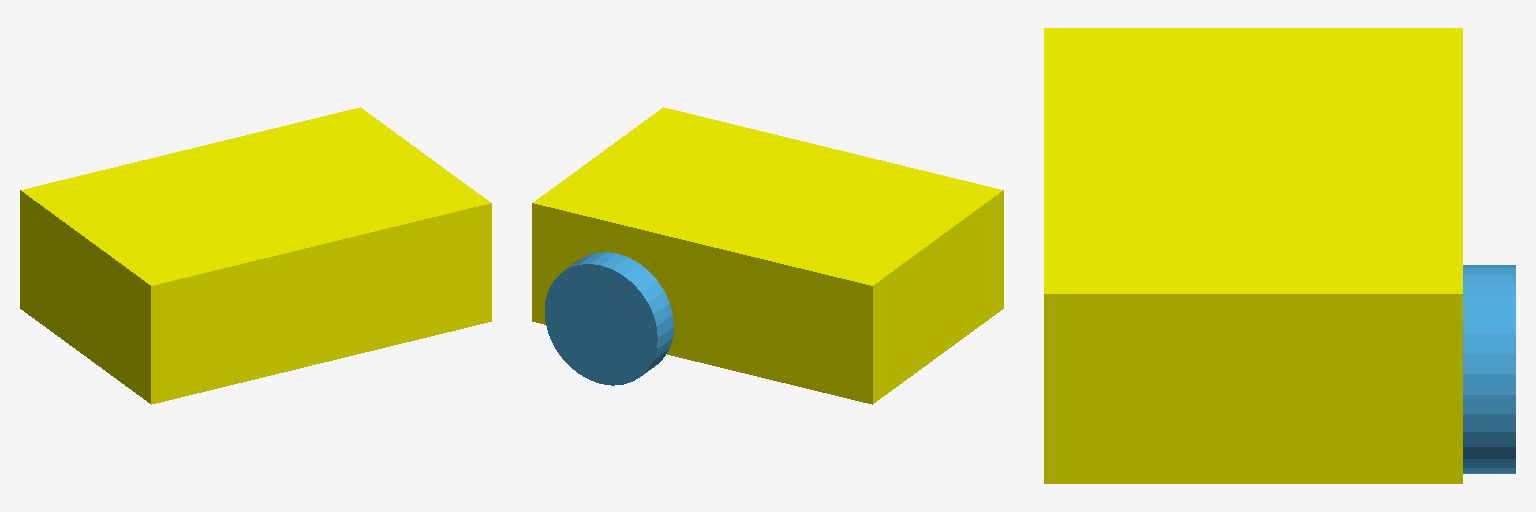
robot.urdf — diferential:
<?xml version="1.0"?>
<robot name="diferential">

<material name="yellow">
    <color rgba="1 1 0 0.5"/>
</material>

    <link name="base_link">
        <visual>
            <geometry>
                <box size="0.6 0.4 0.2"/>
            </geometry>
            <origin xyz="0 0 0.15" rpy="0 0 0"/>
            <material name="yellow" />
        </visual>
    </link>

    <link name="left_wheel">
        <visual>
            <geometry>
                <cylinder radius="0.1" length="0.05" />
            </geometry>
            <origin xyz="0 0 0" rpy="0 0 0"/>
        </visual>
    </link>

    <joint name="base_sleft_wheel" type="continuous">
        <parent link="base_link"/>
        <child link="left_wheel"/>
        <origin xyz="0.15 0.225 0.1" rpy="1.570796 0 0"/>
        <axis xyz="0 0 1"/>
    </joint>

</robot>

--- What the picture shows (computed from the rendered views, not written in the file) ---
The picture shows the robot from 3 angles, left to right: view 1: azimuth 30°, elevation 25°; view 2: azimuth 150°, elevation 25°; view 3: azimuth 270°, elevation 25°; orthographic projection.
Robot: diferential — 2 links, 1 joints (1 continuous); root link base_link; default pose: every joint at zero.
Links seen in each view (by area): view 1: base_link; view 2: base_link, left_wheel; view 3: base_link, left_wheel.
Link boxes in pixels (<box>): base_link: <box>20,107,491,404</box>; base_link: <box>532,107,1003,404</box>; left_wheel: <box>545,252,673,385</box>; base_link: <box>1044,28,1462,483</box>; left_wheel: <box>1463,265,1515,473</box>.
Size in the robot's own frame: 0.6 by 0.45 by 0.25 metres.
Geometry: primitives only (box / cylinder / sphere), no mesh files.
